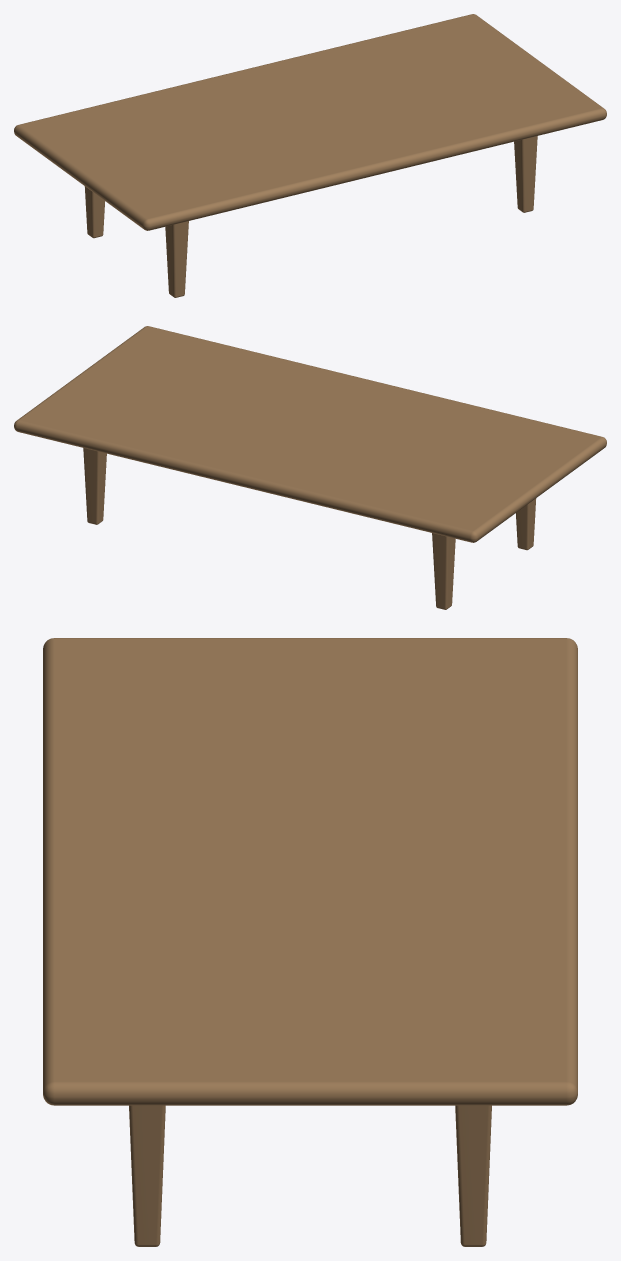
Rendered from CoffeeTable210.fbx.
3 renders of one model, top to bottom at view 1: azimuth 30°, elevation 25°; view 2: azimuth 150°, elevation 25°; view 3: azimuth 270°, elevation 25°, orthographic. The views are drawn at different scales.
Parts seen in each view (by area): view 1: CoffeeTable210; view 2: CoffeeTable210; view 3: CoffeeTable210.
Boxes of the visible parts, x1,y1,x2,y2 form: CoffeeTable210: [14, 14, 606, 297]; CoffeeTable210: [14, 326, 606, 609]; CoffeeTable210: [43, 638, 577, 1246].
Size of the model in its own units: 2.1 by 0.46 by 1.05.
